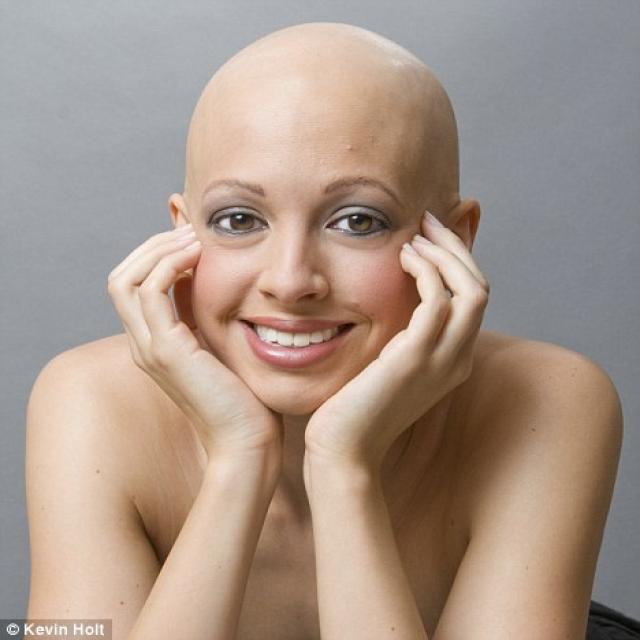no_helmet: (173, 17, 476, 220)
